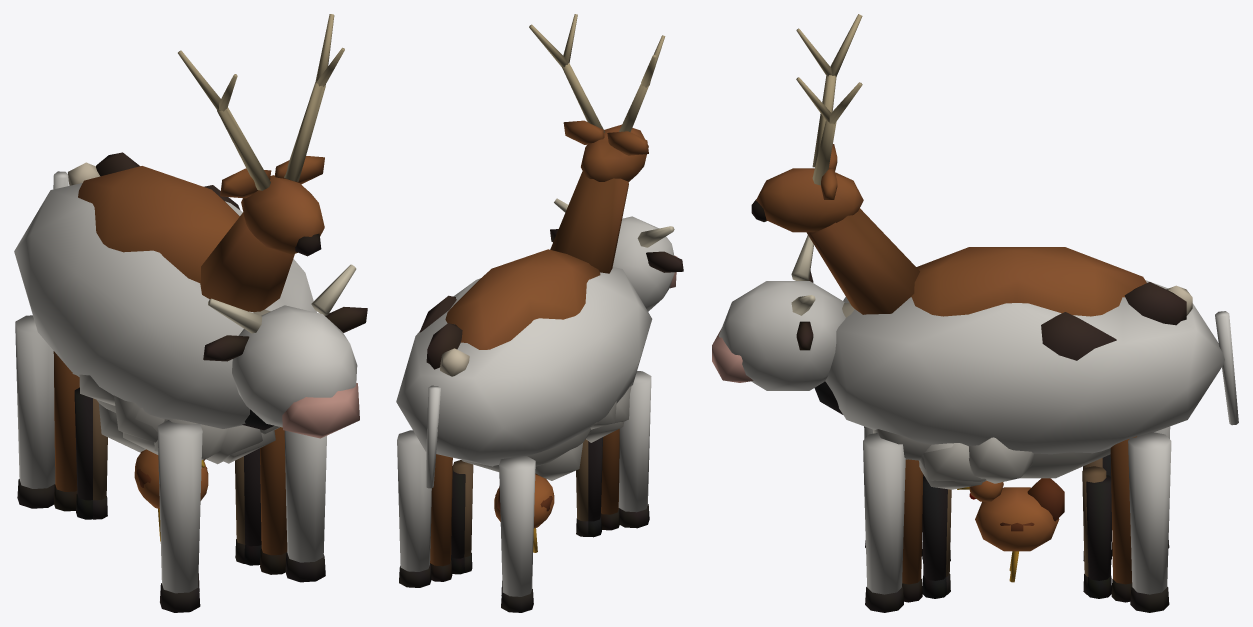
The model's file is animaux.glb.
The picture shows the model from 3 angles, left to right: view 1: azimuth 30°, elevation 25°; view 2: azimuth 150°, elevation 25°; view 3: azimuth 270°, elevation 25°; orthographic projection. The views are drawn at different scales.
Visible parts, largest first — view 1: A_vache, A_cerf, A_mouton, A_chevre, A_poule; view 2: A_vache, A_cerf, A_mouton, A_chevre, A_poule; view 3: A_vache, A_cerf, A_mouton, A_poule, A_chevre.
Part boxes in pixels (bbox=[...]): A_vache: bbox=[14, 152, 367, 612]; A_cerf: bbox=[53, 14, 344, 591]; A_mouton: bbox=[72, 373, 279, 565]; A_chevre: bbox=[93, 309, 270, 563]; A_poule: bbox=[134, 449, 208, 541]; A_vache: bbox=[396, 198, 683, 612]; A_cerf: bbox=[430, 14, 665, 595]; A_mouton: bbox=[451, 385, 631, 574]; A_chevre: bbox=[453, 439, 588, 572]; A_poule: bbox=[494, 473, 554, 552]; A_vache: bbox=[712, 235, 1238, 612]; A_cerf: bbox=[751, 14, 1192, 602]; A_mouton: bbox=[814, 381, 1111, 598]; A_poule: bbox=[957, 478, 1064, 582]; A_chevre: bbox=[842, 303, 1106, 594].
Bounding box in the file's own units: 0.951 × 2.42 × 2.19.
